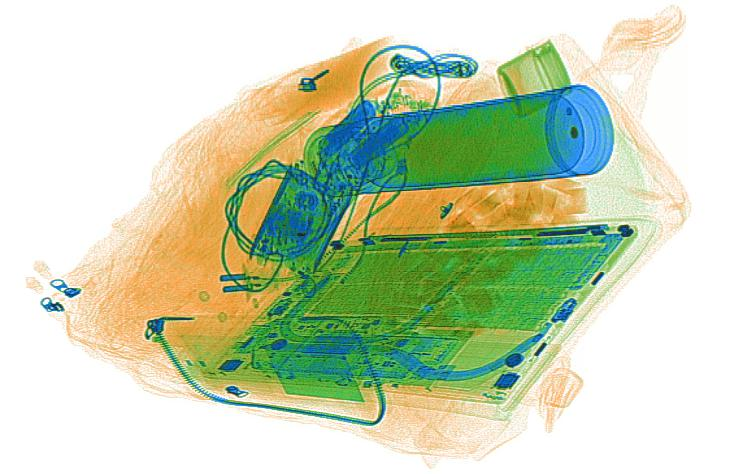battery: (316, 96, 413, 171)
